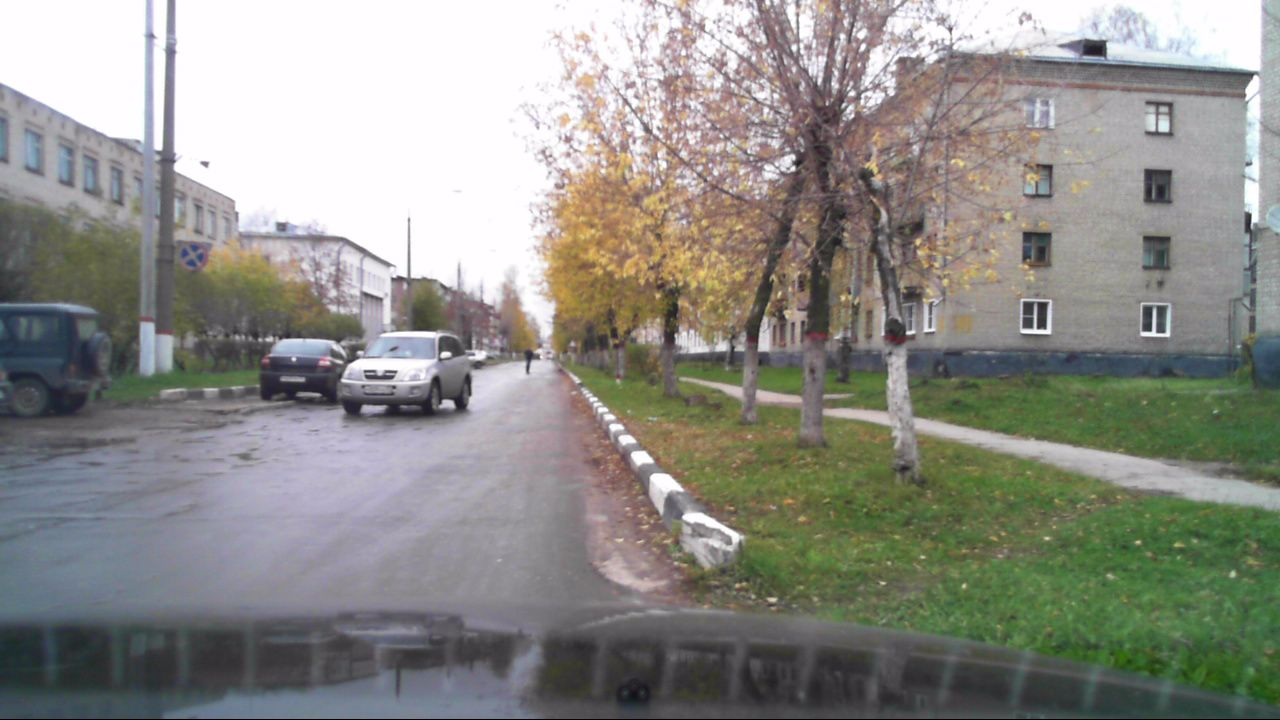No Parking: (177, 238, 209, 272)
